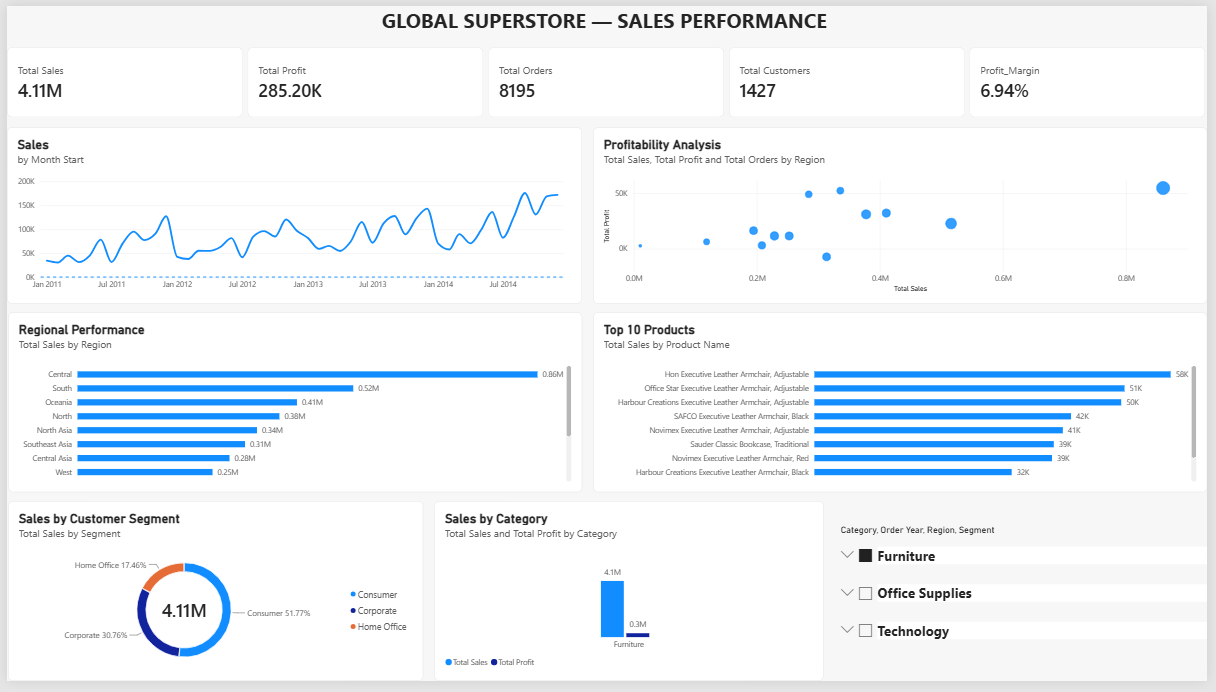

What the dashboard file says about the page in this screenshot:
{"tool":"powerbi","page":{"name":"Page 1","canvas":[1920,1080],"ordinal":0},"visuals":[{"type":"cardVisual","fields":{"Data":["superstore_mysql.Total Sales","superstore_mysql.Total Profit","superstore_mysql.Total Orders","superstore_mysql.Total Customers","superstore_mysql.Profit_Margin"]},"box":[0,66,1920,112],"z":5000},{"type":"lineChart","fields":{"Y":["superstore_mysql.Total Sales"],"Category":["superstore_mysql.Month Start"]},"box":[0,194,920,282],"z":5001},{"type":"clusteredBarChart","title":"Regional Performance","fields":{"Category":["superstore_mysql.Region"],"Y":["superstore_mysql.Total Sales"]},"box":[2,490,918,288],"z":5002},{"type":"clusteredColumnChart","title":"Sales by Category","fields":{"Category":["superstore_mysql.Category"],"Y":["superstore_mysql.Total Sales","superstore_mysql.Total Profit"]},"box":[684,792,622,288],"z":5003},{"type":"clusteredBarChart","title":"Top 10 Products","fields":{"Category":["superstore_mysql.Product Name"],"Y":["superstore_mysql.Total Sales"]},"box":[938,490,982,288],"z":5004},{"type":"donutChart","title":"Sales by Customer Segment","fields":{"Category":["superstore_mysql.Segment"],"Y":["superstore_mysql.Total Sales"]},"box":[2,792,664,288],"z":5005},{"type":"scatterChart","title":"Profitability Analysis","fields":{"X":["superstore_mysql.Total Sales"],"Y":["superstore_mysql.Total Profit"],"Size":["superstore_mysql.Total Orders"],"Category":["superstore_mysql.Region"]},"box":[938,194,982,282],"z":5006},{"type":"textbox","box":[0,0,1920,48],"z":5007},{"type":"slicer","fields":{"Values":["superstore_mysql.Category","superstore_mysql.Order Year","superstore_mysql.Region","superstore_mysql.Segment"]},"box":[1326,830,594,214],"z":5008}]}

Visuals, with their boxes in screenshot pixels (x1, y1, x2, y2), scaled from the page's 1920x1080 canvas onto the 1216x692 screenshot:
cardVisual - superstore_mysql.Total Sales x superstore_mysql.Total Profit: 0/42/1215/114
lineChart - superstore_mysql.Total Sales x superstore_mysql.Month Start: 0/124/583/305
"Regional Performance" clusteredBarChart: 1/314/583/498
"Sales by Category" clusteredColumnChart: 433/507/827/691
"Top 10 Products" clusteredBarChart: 594/314/1215/498
"Sales by Customer Segment" donutChart: 1/507/422/691
"Profitability Analysis" scatterChart: 594/124/1215/305
textbox: 0/0/1215/31
slicer - superstore_mysql.Category x superstore_mysql.Order Year: 840/532/1215/669
